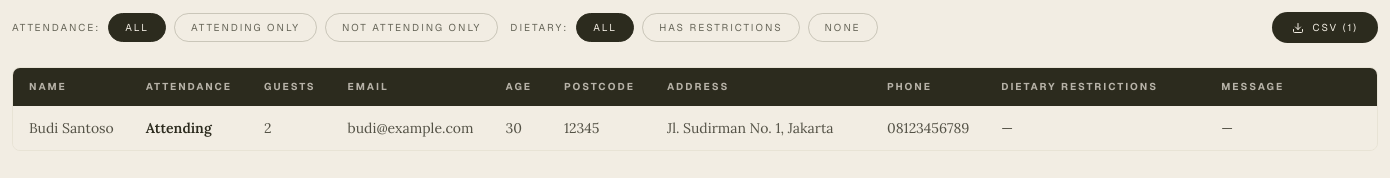
Test: RsvpTable — filtering › shows the no-matching-data message when a filter combination yields zero rows
What coordinates should you click on to do the following:
click the button "Not attending only"
I would click on:
 (412, 28)
Its box is [325, 13, 498, 42].
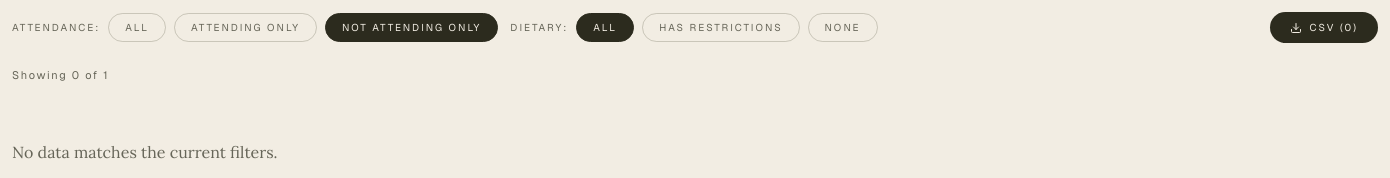
Expected: the text "No data matches the current filters." is shown, [12, 142, 278, 162]
Expected: the table with test id "rsvp-table" is gone
